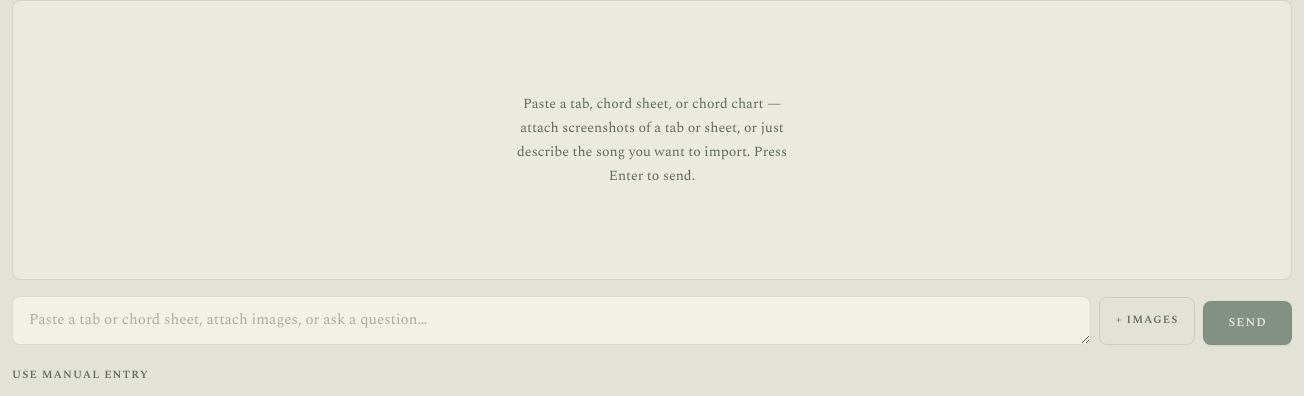
Scenario: ImportForm › notes missing tab content and offers no Use this result affordance
Step 1. Replace the text in the text box named "message" with "some tab text" → (551, 320), box [12, 296, 1091, 344]
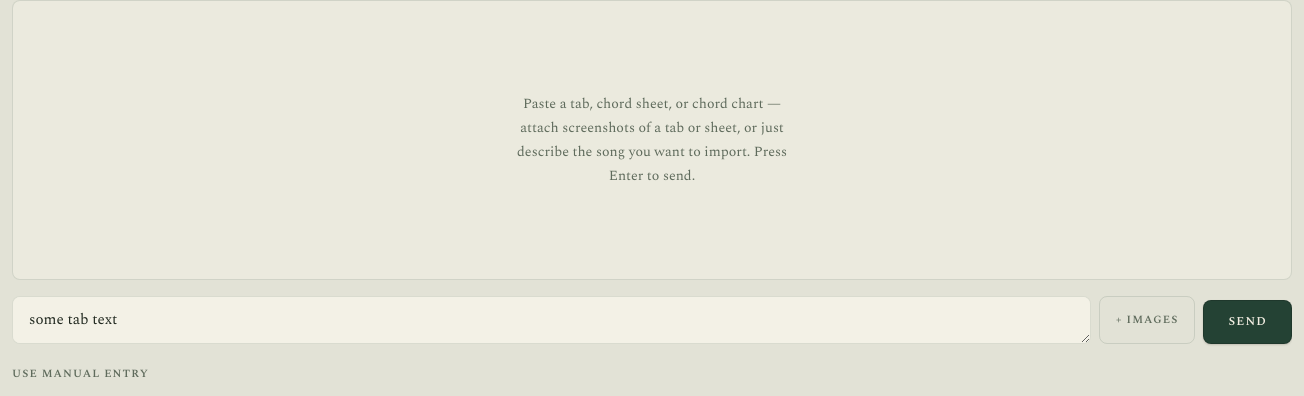
Step 2. Click the button "Send" → (1248, 322), box [1203, 300, 1292, 344]
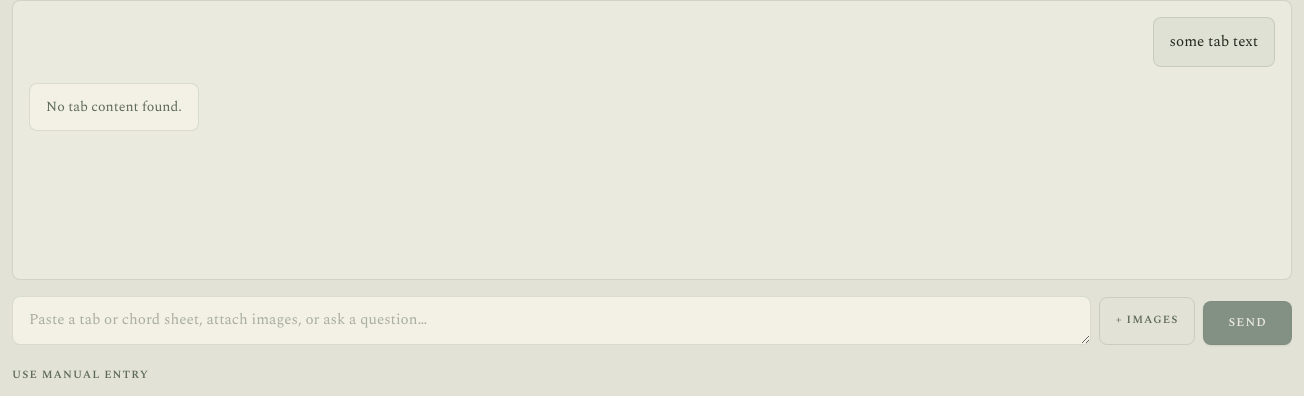
Expected: the text "No tab content found." is shown, [29, 83, 199, 131]
